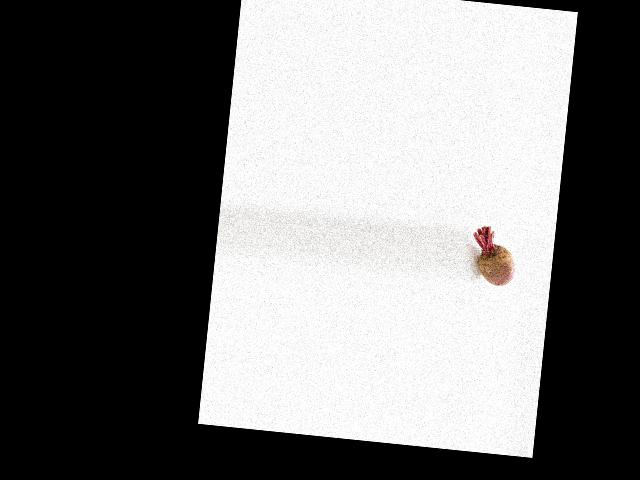beet: (467, 225, 518, 287)
